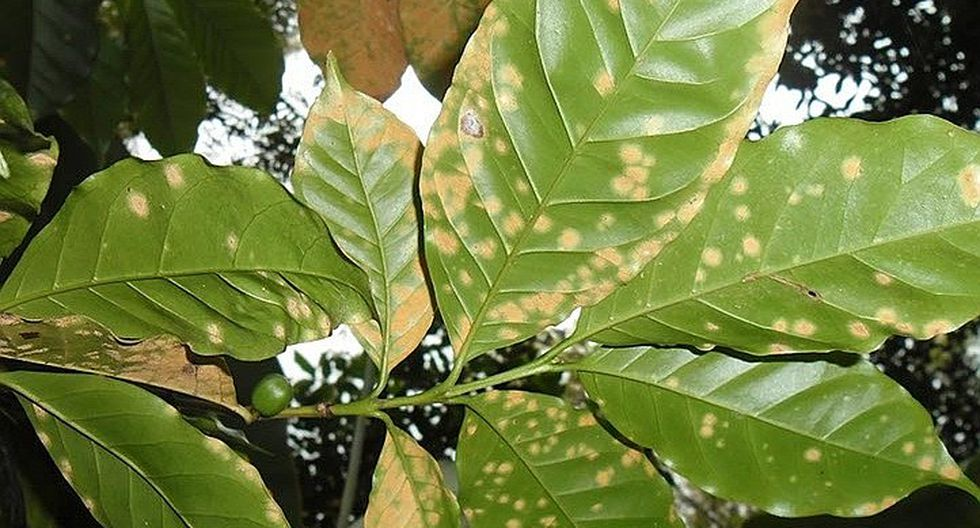roya: (275, 45, 769, 379)
